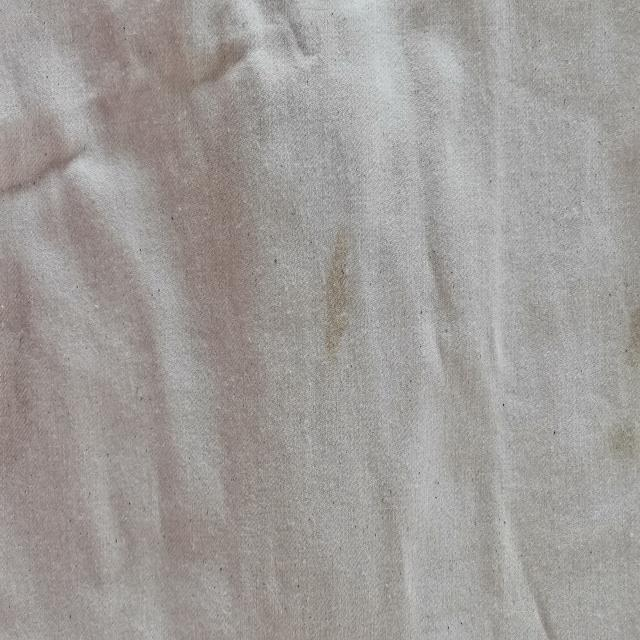taaaches: (318, 203, 359, 388), (601, 395, 640, 477), (610, 304, 640, 359)
